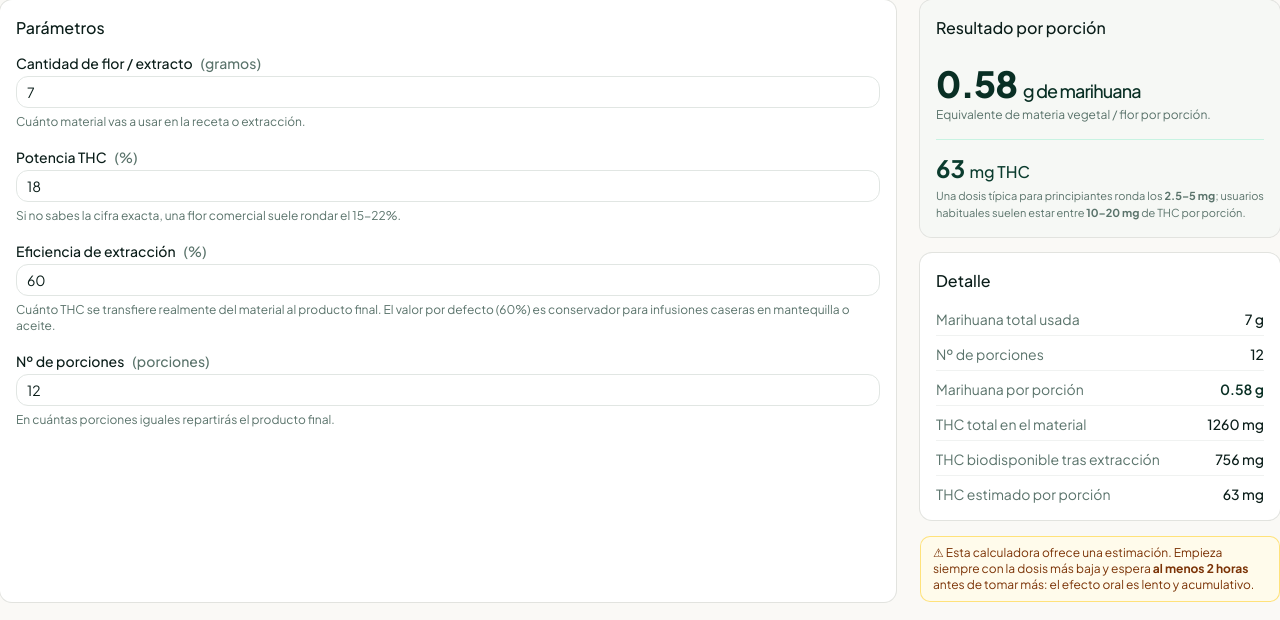
DoseCalculator › updates calculations correctly when user changes the input values
Cambiamos los gramos a 10g
Replace the text in the number field labelled "Cantidad de flor / extracto (gramos)" with "10": [448, 92] box left=16, top=76, right=880, bottom=108
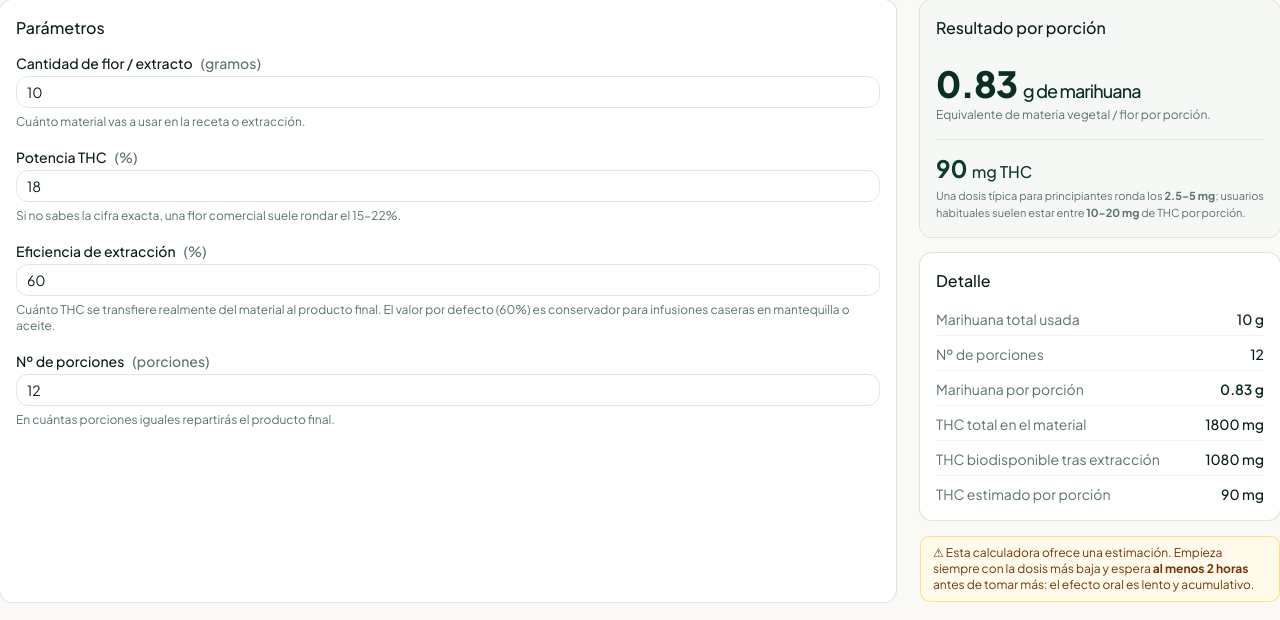
Cambiamos las porciones a 10
Replace the text in the number field labelled "Nº de porciones (porciones)" with "10": [448, 390] box left=16, top=374, right=880, bottom=406
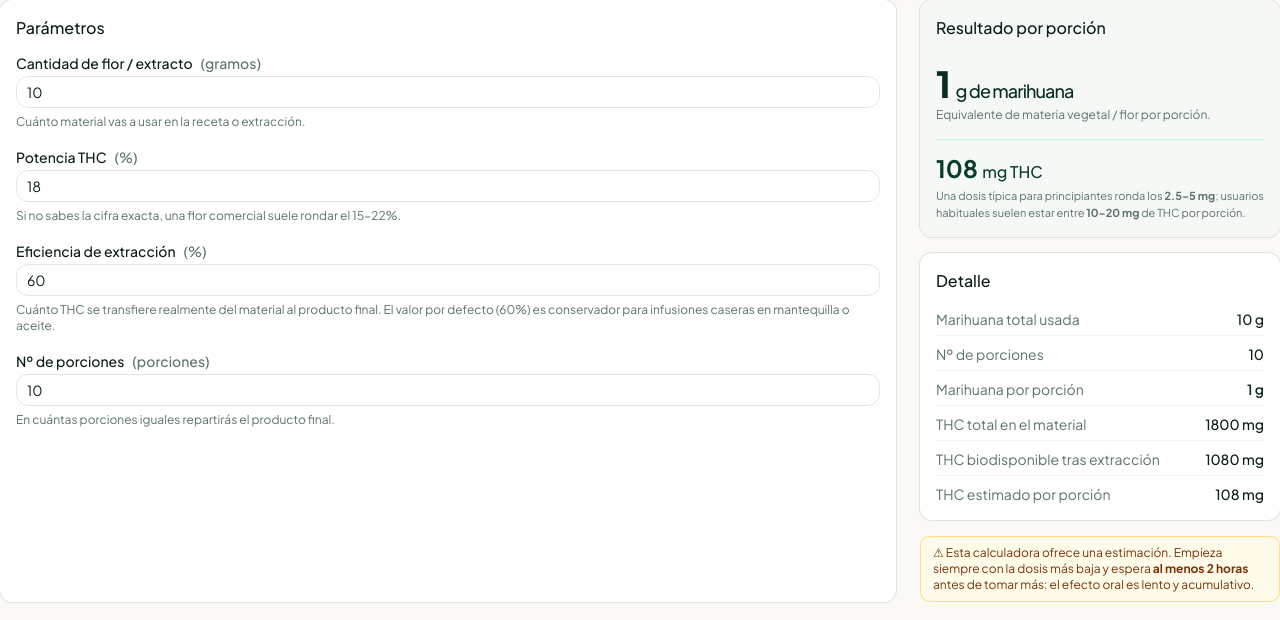
Expected: the text "1 g" is shown, left=1247, top=379, right=1264, bottom=399
Expected: the text "108 mg" is shown, left=1215, top=484, right=1264, bottom=504
